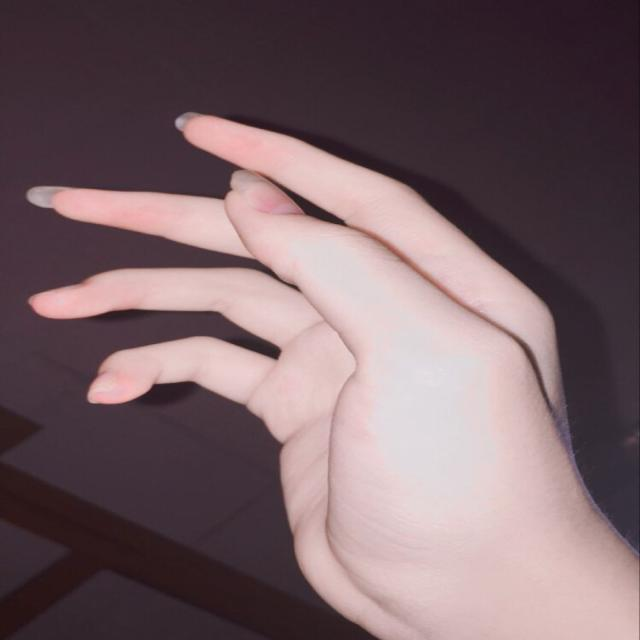no-gloves: (25, 110, 634, 638)
